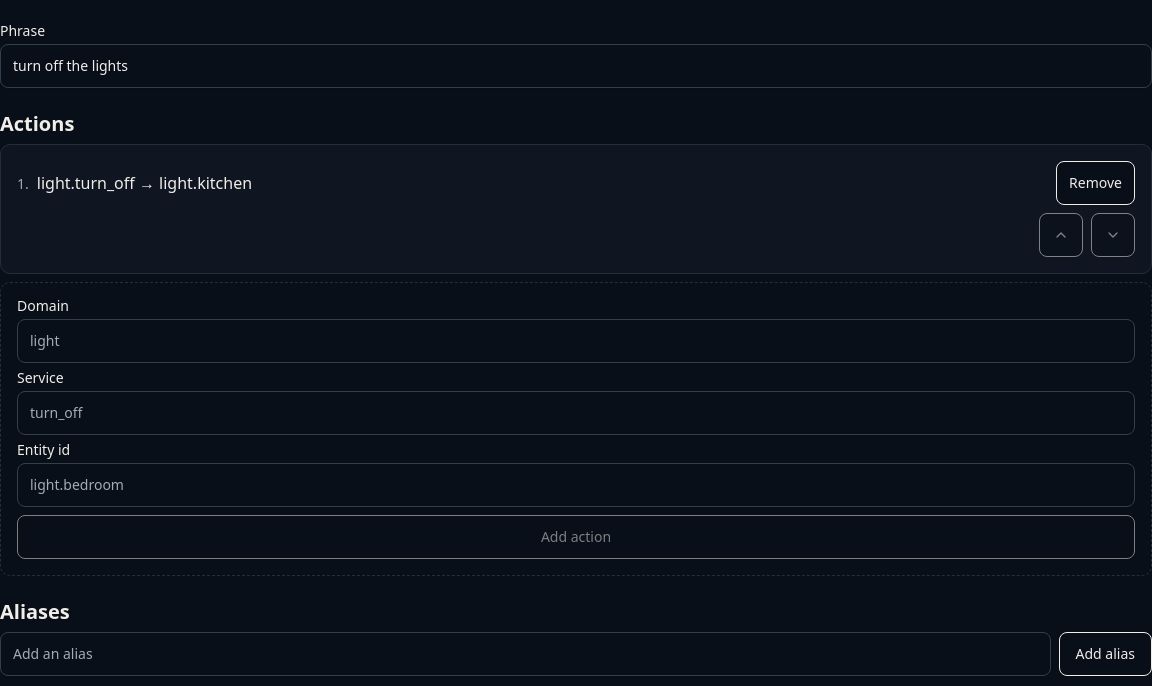
Test: removing the last action blocks save and renders the zero-actions message
The image size is (1152, 686).
Expected: the text "light.turn_off → light.kitchen" is shown, [37,171,252,195]
Click the button "Remove" at (1096, 183), box [1056,161,1135,205]
(page scrolled)
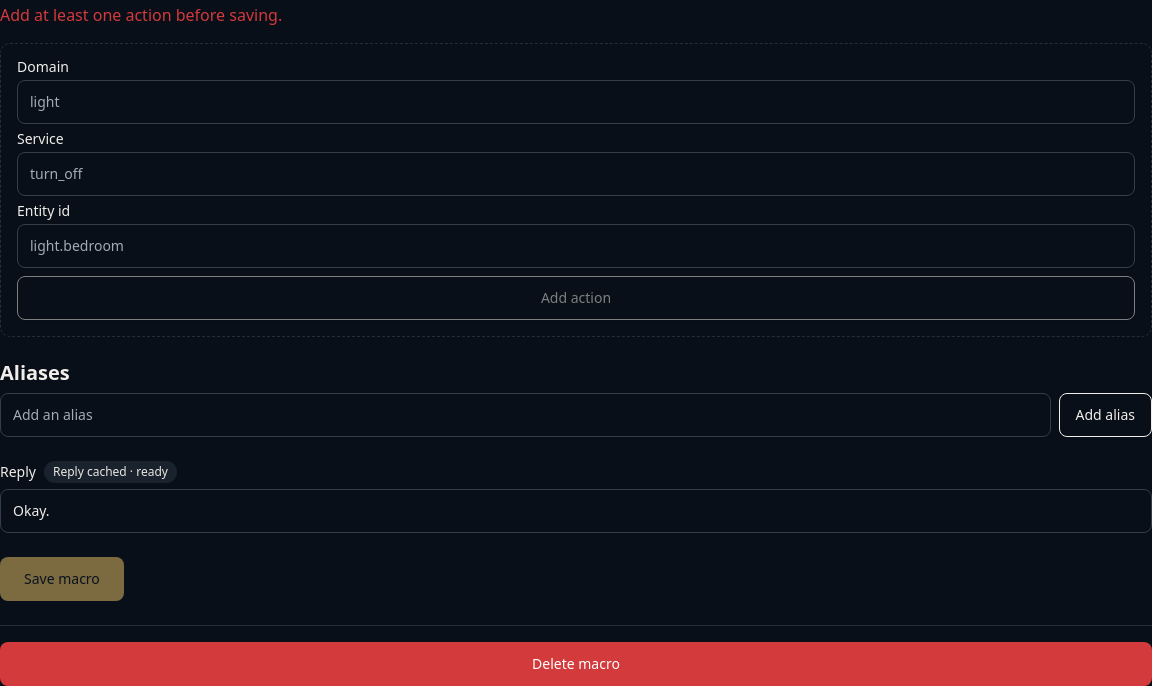
Result: the text "Add at least one action before saving." is shown at [0,4,282,26]
Result: the button "Save macro" is disabled at [0,557,124,601]
